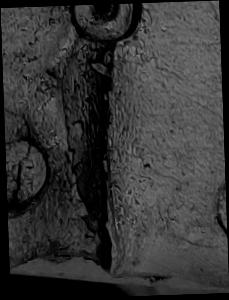crack: (1, 0, 229, 300)
